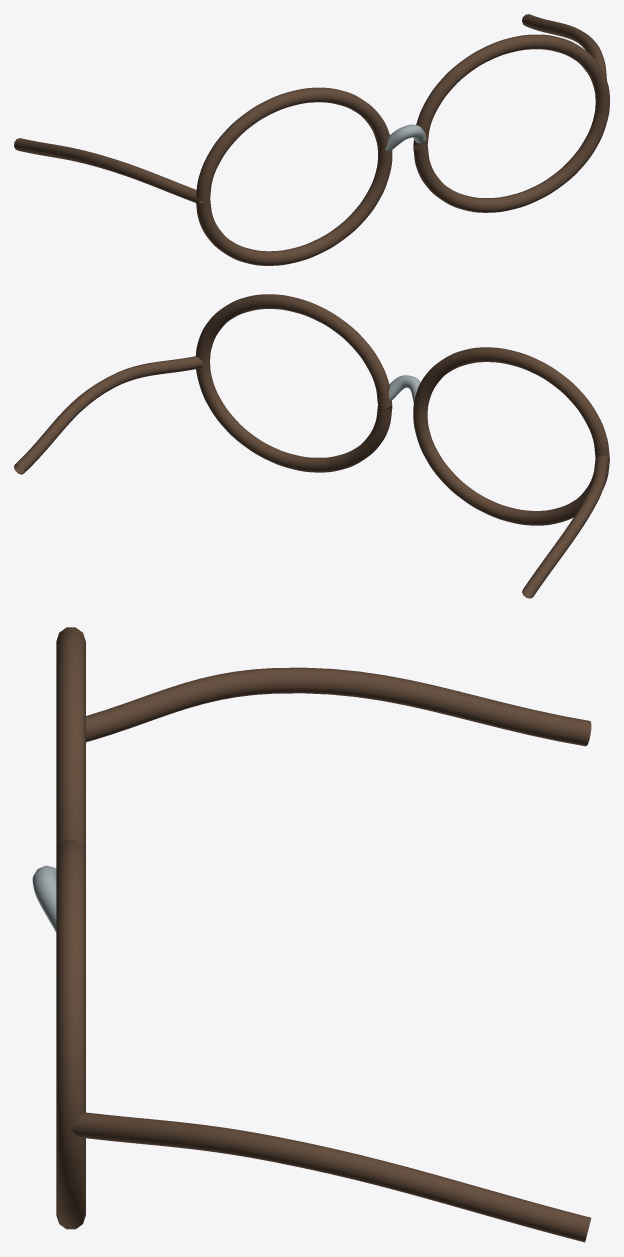
Rendered from YusufRoundGlasses.fbx.
3 renders of one model, top to bottom at view 1: azimuth 30°, elevation 25°; view 2: azimuth 150°, elevation 25°; view 3: azimuth 270°, elevation 25°, orthographic. The views are drawn at different scales.
Visible parts, largest first — view 1: RoundSpectacleRim.001, RoundSpectacleRim, SpectacleTemple.001, SpectacleTemple, SoftNoseBridge; view 2: RoundSpectacleRim, RoundSpectacleRim.001, SpectacleTemple, SpectacleTemple.001, SoftNoseBridge; view 3: SpectacleTemple, SpectacleTemple.001, RoundSpectacleRim, RoundSpectacleRim.001, SoftNoseBridge.
Part boxes in pixels (x1=…): RoundSpectacleRim.001: x1=196, y1=87, x2=392, y2=265; RoundSpectacleRim: x1=413, y1=34, x2=609, y2=212; SpectacleTemple.001: x1=14, y1=138, x2=204, y2=202; SpectacleTemple: x1=522, y1=14, x2=606, y2=79; SoftNoseBridge: x1=383, y1=124, x2=426, y2=150; RoundSpectacleRim: x1=195, y1=294, x2=392, y2=472; RoundSpectacleRim.001: x1=413, y1=347, x2=609, y2=525; SpectacleTemple: x1=14, y1=356, x2=203, y2=474; SpectacleTemple.001: x1=522, y1=455, x2=609, y2=598; SoftNoseBridge: x1=388, y1=375, x2=420, y2=403; SpectacleTemple: x1=71, y1=1112, x2=591, y2=1242; SpectacleTemple.001: x1=86, y1=667, x2=591, y2=746; RoundSpectacleRim: x1=56, y1=839, x2=85, y2=1229; RoundSpectacleRim.001: x1=56, y1=627, x2=85, y2=853; SoftNoseBridge: x1=32, y1=865, x2=56, y2=932.
Bounding box in the file's own units: 32.5 × 10.16 × 15.13.
